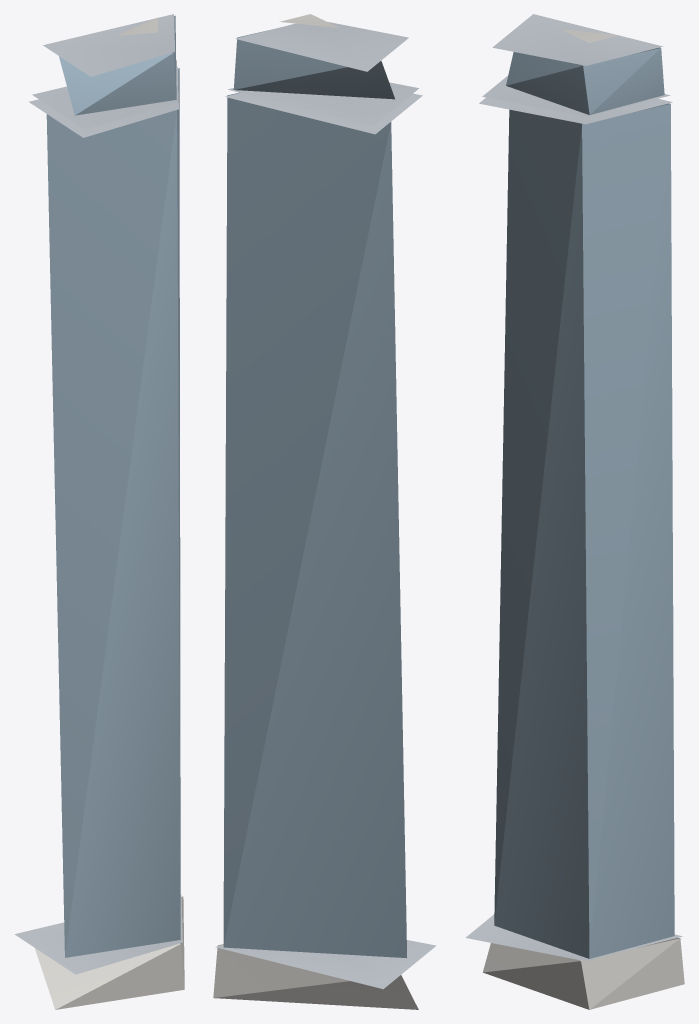
File: tower_10_lod1.glb
The picture shows the model from 3 angles, left to right: view 1: azimuth 30°, elevation 25°; view 2: azimuth 150°, elevation 25°; view 3: azimuth 330°, elevation 25°; orthographic projection. The views are drawn at different scales.
Visible parts, largest first — view 1: tower_10_lod1; view 2: tower_10_lod1; view 3: tower_10_lod1.
Boxes of the visible parts, box(x1,y1,x2,y2) form: tower_10_lod1: box(14, 14, 184, 1009); tower_10_lod1: box(213, 14, 436, 1009); tower_10_lod1: box(465, 14, 684, 1009).
Bounding box in the file's own units: 49.93 × 273 × 29.85.
